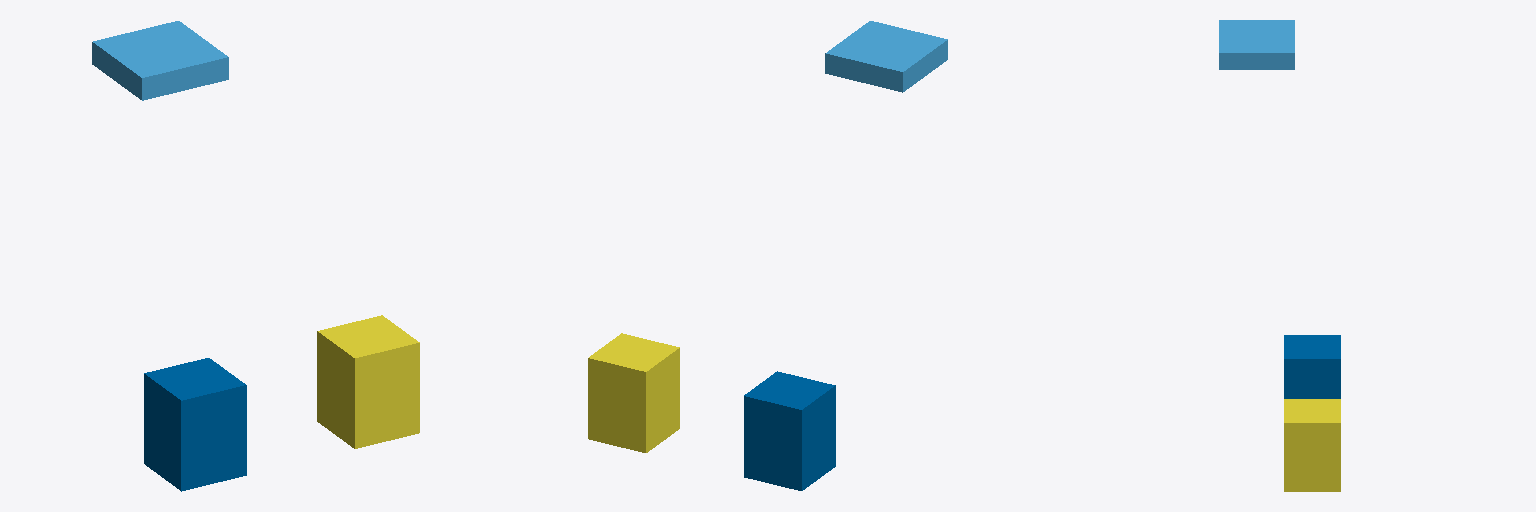
URDF robot description (mark2):
<?xml version="1.0" ?>
<robot name="mark2"> 
  <link name="base_link">
    <inertial>
      <origin
        xyz="-0.015753 0.016964 -0.012343"
        rpy="0 0 0" />
      <mass
        value="1.3619" />
      <inertia
        ixx="0.0062425"
        ixy="-6.4951E-06"
        ixz="2.029E-07"
        iyy="0.005561"
        iyz="-3.8208E-07"
        izz="0.010065" />
    </inertial>
    <visual>
      <origin
        xyz="0 0 0"
        rpy="0 0 -1.570796327" />
      <geometry>
        <mesh
          filename="package://mark2/meshes/Mark_2.dae" />
      </geometry>
      <material
        name="">
        <color
          rgba="0.11765 0.11765 0.11765 1" />
      </material>
    </visual>
    <collision>
      <origin
        xyz="0 0 0"
        rpy="-1.570796327 0 -1.570796327" />
      <geometry>
        <mesh
          filename="package://mark2/meshes/helice_fixa/base_link.STL" />
      </geometry>
    </collision>
  </link>

  <gazebo>
    <plugin name='simple_drone' filename='libplugin_drone.so'>
        <bodyName>base_link</bodyName>
        <imuTopic>/drone/imu</imuTopic>
        <rollpitchProportionalGain>10.0</rollpitchProportionalGain>
        <rollpitchDifferentialGain>5.0</rollpitchDifferentialGain>
        <rollpitchLimit>0.5</rollpitchLimit>
        <yawProportionalGain>2.0</yawProportionalGain>
        <yawDifferentialGain>1.0</yawDifferentialGain>
        <yawLimit>1.5</yawLimit>
        <velocityXYProportionalGain>5.0</velocityXYProportionalGain>
        <velocityXYDifferentialGain>2.3</velocityXYDifferentialGain>
        <velocityXYLimit>2</velocityXYLimit>
        <velocityZProportionalGain>5.0</velocityZProportionalGain>
        <velocityZDifferentialGain>1.0</velocityZDifferentialGain>
        <velocityZLimit>-1</velocityZLimit>
        <positionXYProportionalGain>1.1</positionXYProportionalGain>
        <positionXYDifferentialGain>0.0</positionXYDifferentialGain>
        <positionXYIntegralGain>0.0</positionXYIntegralGain>
        <positionXYLimit>5</positionXYLimit>
        <positionZProportionalGain>1.0</positionZProportionalGain>
        <positionZDifferentialGain>0.2</positionZDifferentialGain>
        <positionZLimit>-1</positionZLimit>
        <maxForce>30</maxForce>
        <motionSmallNoise>0.05</motionSmallNoise>
        <motionDriftNoise>0.03</motionDriftNoise>
        <motionDriftNoiseTime>5.0</motionDriftNoiseTime>
    </plugin>
  </gazebo>

  <!-- IMU -->
  <joint name="imu_joint" type="fixed">
    <axis xyz="0 1 0" />
    <origin xyz="0 0 0.01" rpy="0 0 0"/>
    <parent link="base_link"/>
    <child link="imu_link"/>
  </joint>

  <link name="imu_link">
    <collision>
      <origin xyz="0 0 0" rpy="0 0 0"/>
      <geometry>
    <box size="0.02 0.02 0.005"/>
      </geometry>
    </collision>
    <visual>
      <origin xyz="0 0 0" rpy="0 0 0"/>
      <geometry>
    <box size="0.02 0.02 0.005"/>
      </geometry>
      <material name="red"/>
    </visual>
    <inertial>
      <mass value="1e-5" />
      <origin xyz="0 0 0" rpy="0 0 0"/>
      <inertia ixx="1e-6" ixy="0" ixz="0" iyy="1e-6" iyz="0" izz="1e-6" />
    </inertial>
  </link>

  <gazebo reference="imu_link">
    <gravity>true</gravity>

    <sensor name="imu_sensor" type="imu">
      <always_on>true</always_on>
      <update_rate>100</update_rate>
      <visualize>true</visualize>
      <topic>__default_topic__</topic>
      
      <plugin filename="libgazebo_ros_imu_sensor.so" name="imu_plugin">
        <topicName>mark2/imu</topicName>
        <bodyName>imu_link</bodyName>
        <updateRateHZ>10.0</updateRateHZ>
        <gaussianNoise>0.0</gaussianNoise>
        <xyzOffset>0 0 0</xyzOffset>
        <rpyOffset>0 0 0</rpyOffset>
        <frameName>imu_link</frameName>
        <initialOrientationAsReference>false</initialOrientationAsReference>
      </plugin>

      <pose>0 0 0 0 0 0</pose>
    </sensor>
  </gazebo>

  
  <!-- Sonar sensor in 100fps --> 
    <joint name="sonar_joint" type="fixed">
      <axis xyz="0 1 0" />
      <origin xyz="0.056500 0.014700 -0.08" rpy="0 1.570796327 0"/>
      <parent link="base_link"/>
      <child link="sonar_link"/>
    </joint>
  
    <link name="sonar_link">
      <collision>
        <origin xyz="0 0 0" rpy="0 0 0"/>
        <geometry>
      <box size="0.005 0.005 0.005"/>
        </geometry>
      </collision>
      <visual>
        <origin xyz="0 0 0" rpy="0 0 0"/>
        <geometry>
      <box size="0.005 0.005 0.005"/>
        </geometry>
        <material name="red"/>
      </visual>
      <inertial>
        <mass value="1e-5" />
        <origin xyz="0 0 0" rpy="0 0 0"/>
        <inertia ixx="1e-6" ixy="0" ixz="0" iyy="1e-6" iyz="0" izz="1e-6" />
      </inertial>
    </link>

    <gazebo reference="sonar_link">
      <sensor type="ray" name="sonar"> 
        <always_on>true</always_on>
        <update_rate>10</update_rate>
        <pose>0 0 0 0 0 0</pose>
        <visualize>false</visualize>
        <ray>
          <scan>
            <horizontal>
              <samples>3</samples>
              <resolution>1</resolution>
              <min_angle>-0.34906585</min_angle>
              <max_angle> 0.34906585</max_angle>
            </horizontal>
            <vertical>
              <samples>3</samples>
              <resolution>1</resolution>
              <min_angle>-0.34906585</min_angle>
              <max_angle> 0.34906585</max_angle>
            </vertical>
          </scan>
          <range>
            <min>0.03</min>
            <max>3.0</max>
            <resolution>0.01</resolution>
          </range>
        </ray>

        <plugin name="gazebo_ros_sonar_controller" filename="libhector_gazebo_ros_sonar_hector.so">
          <gaussianNoise>0.005</gaussianNoise>
          <topicName>mark2/sonar_height</topicName>
          <frameId>sonar_link</frameId>
        </plugin>
      </sensor>
    </gazebo>


  <!-- Frontward looking camera -->
  <joint name="cam1_joint" type="fixed">
    <axis xyz="0 1 0" />
    <origin xyz="0.056500 0.014700 -0.08" rpy="0 0 0"/> 
    <parent link="base_link"/>
    <child link="cam1_link"/>
  </joint>

  <link name="cam1_link">
    <collision>
      <origin xyz="0 0 0" rpy="0 0 0"/>
      <geometry>
    <box size="0.015 0.015 0.02"/>
      </geometry>
    </collision>

    <visual>
      <origin xyz="0 0 0" rpy="0 0 0"/>
      <geometry>
    <box size="0.015 0.015 0.02"/>
      </geometry>
      <material name="red"/>
    </visual>
    <inertial>
      <mass value="1e-5" />
      <origin xyz="0 0 0" rpy="0 0 0"/>
      <inertia ixx="1e-6" ixy="0" ixz="0" iyy="1e-6" iyz="0" izz="1e-6" />
    </inertial>
  </link>

  <gazebo reference="cam1_link">
    <sensor name="front_camera" type="camera">
      <camera>
        <horizontal_fov>1.570796326794</horizontal_fov>
        <image>
          <width>1280</width>
          <height>720</height>
          <format>R8G8B8</format>
        </image>
        <clip>
          <near>0.1</near>
          <far>100</far>
        </clip>
        <noise>
          <type>gaussian</type>
          <mean>0.0</mean>
          <stddev>0.005</stddev>
        </noise>
      </camera>
      
      <update_rate>30</update_rate>
      <!-- visualize>true</visualize -->

      <plugin name="frontcam" filename="libgazebo_ros_camera.so">
        <alwaysOn>true</alwaysOn>
        <updateRate>0.0</updateRate>
        <cameraName>mark2/front_cam</cameraName>
        <imageTopicName>image_raw</imageTopicName>
        <cameraInfoTopicName>camera_info</cameraInfoTopicName>
        <frameName>front_cam</frameName>
        <hackBaseline>0.07</hackBaseline>
        <distortionK1>0.0</distortionK1>
        <distortionK2>0.0</distortionK2>
        <distortionK3>0.0</distortionK3>
        <distortionT1>0.0</distortionT1>
        <distortionT2>0.0</distortionT2>
      </plugin>
    </sensor>
  </gazebo>



  <!-- downward looking camera -->
  <joint name="cam2_joint" type="fixed">
    <axis xyz="0 1 0" />
    <origin xyz="0.016500 0.014700 -0.08" rpy="0 1.570796327 0"/>
    <parent link="base_link"/>
    <child link="cam2_link"/>
  </joint>

  <link name="cam2_link">
    <collision>
      <origin xyz="0 0 0" rpy="0 1.570796327 0"/>
      <geometry>
    <box size="0.015 0.015 0.02"/>
      </geometry>
    </collision>

    <visual>
      <origin xyz="0 0 0" rpy="0 1.570796327 0"/>
      <geometry>
    <box size="0.015 0.015 0.02"/>
      </geometry>
      <material name="red"/>
    </visual>
    <inertial>
      <mass value="1e-5" />
      <origin xyz="0 0 0" rpy="0 0 0"/>
      <inertia ixx="1e-6" ixy="0" ixz="0" iyy="1e-6" iyz="0" izz="1e-6" />
    </inertial>
  </link>

  <gazebo reference="cam2_link">
    <sensor name="down_camera" type="camera">
      <camera>
        <horizontal_fov>1.3962634</horizontal_fov>
        <image>
          <width>1200</width>
          <height>720</height>
          <format>R8G8B8</format>
        </image>
        <clip>
          <near>0.1</near>
          <far>100</far>
        </clip>
        <noise>
          <type>gaussian</type>
          <mean>0.0</mean>
          <stddev>0.005</stddev>
        </noise>
      </camera>
      
      <update_rate>30</update_rate>
      <!-- visualize>true</visualize -->

      <plugin name="downcam" filename="libgazebo_ros_camera.so">
        <alwaysOn>true</alwaysOn>
        <updateRate>0.0</updateRate>
        <cameraName>mark2/down_cam</cameraName>
        <imageTopicName>image_raw</imageTopicName>
        <cameraInfoTopicName>camera_info</cameraInfoTopicName>
        <frameName>down_cam</frameName>
        <hackBaseline>0.07</hackBaseline>
        <distortionK1>0.0</distortionK1>
        <distortionK2>0.0</distortionK2>
        <distortionK3>0.0</distortionK3>
        <distortionT1>0.0</distortionT1>
        <distortionT2>0.0</distortionT2>
      </plugin>
    </sensor>
  </gazebo>
</robot>

--- Render facts (derived) ---
3 views of the same robot in one strip: view 1: azimuth 30°, elevation 25°; view 2: azimuth 150°, elevation 25°; view 3: azimuth 270°, elevation 25° (orthographic).
Robot: mark2 — 5 links, 4 joints (4 fixed); root link base_link; default pose: every joint at zero.
Visible links, largest first — view 1: cam1_link, cam2_link, imu_link; view 2: cam1_link, cam2_link, imu_link; view 3: cam1_link, imu_link, cam2_link.
Link boxes in pixels (x1=…): cam1_link: x1=317, y1=315, x2=419, y2=448; cam2_link: x1=144, y1=358, x2=246, y2=491; imu_link: x1=92, y1=21, x2=228, y2=100; cam1_link: x1=588, y1=333, x2=679, y2=452; cam2_link: x1=744, y1=371, x2=835, y2=490; imu_link: x1=825, y1=21, x2=947, y2=92; cam1_link: x1=1284, y1=399, x2=1340, y2=491; imu_link: x1=1219, y1=20, x2=1294, y2=69; cam2_link: x1=1284, y1=335, x2=1340, y2=398.
Bounding box of the posed robot: 0.074 × 0.0322 × 0.1025 m (x, y, z).
Meshes: 1 distinct files referenced, 0 mesh visuals loaded (none loaded); not drawn: 1 (reference not matched to a file when rendering).
